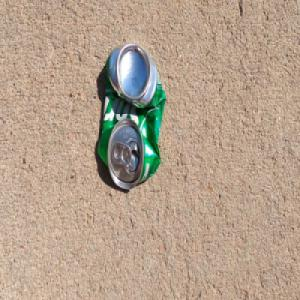SodaCan: (96, 41, 166, 193)
